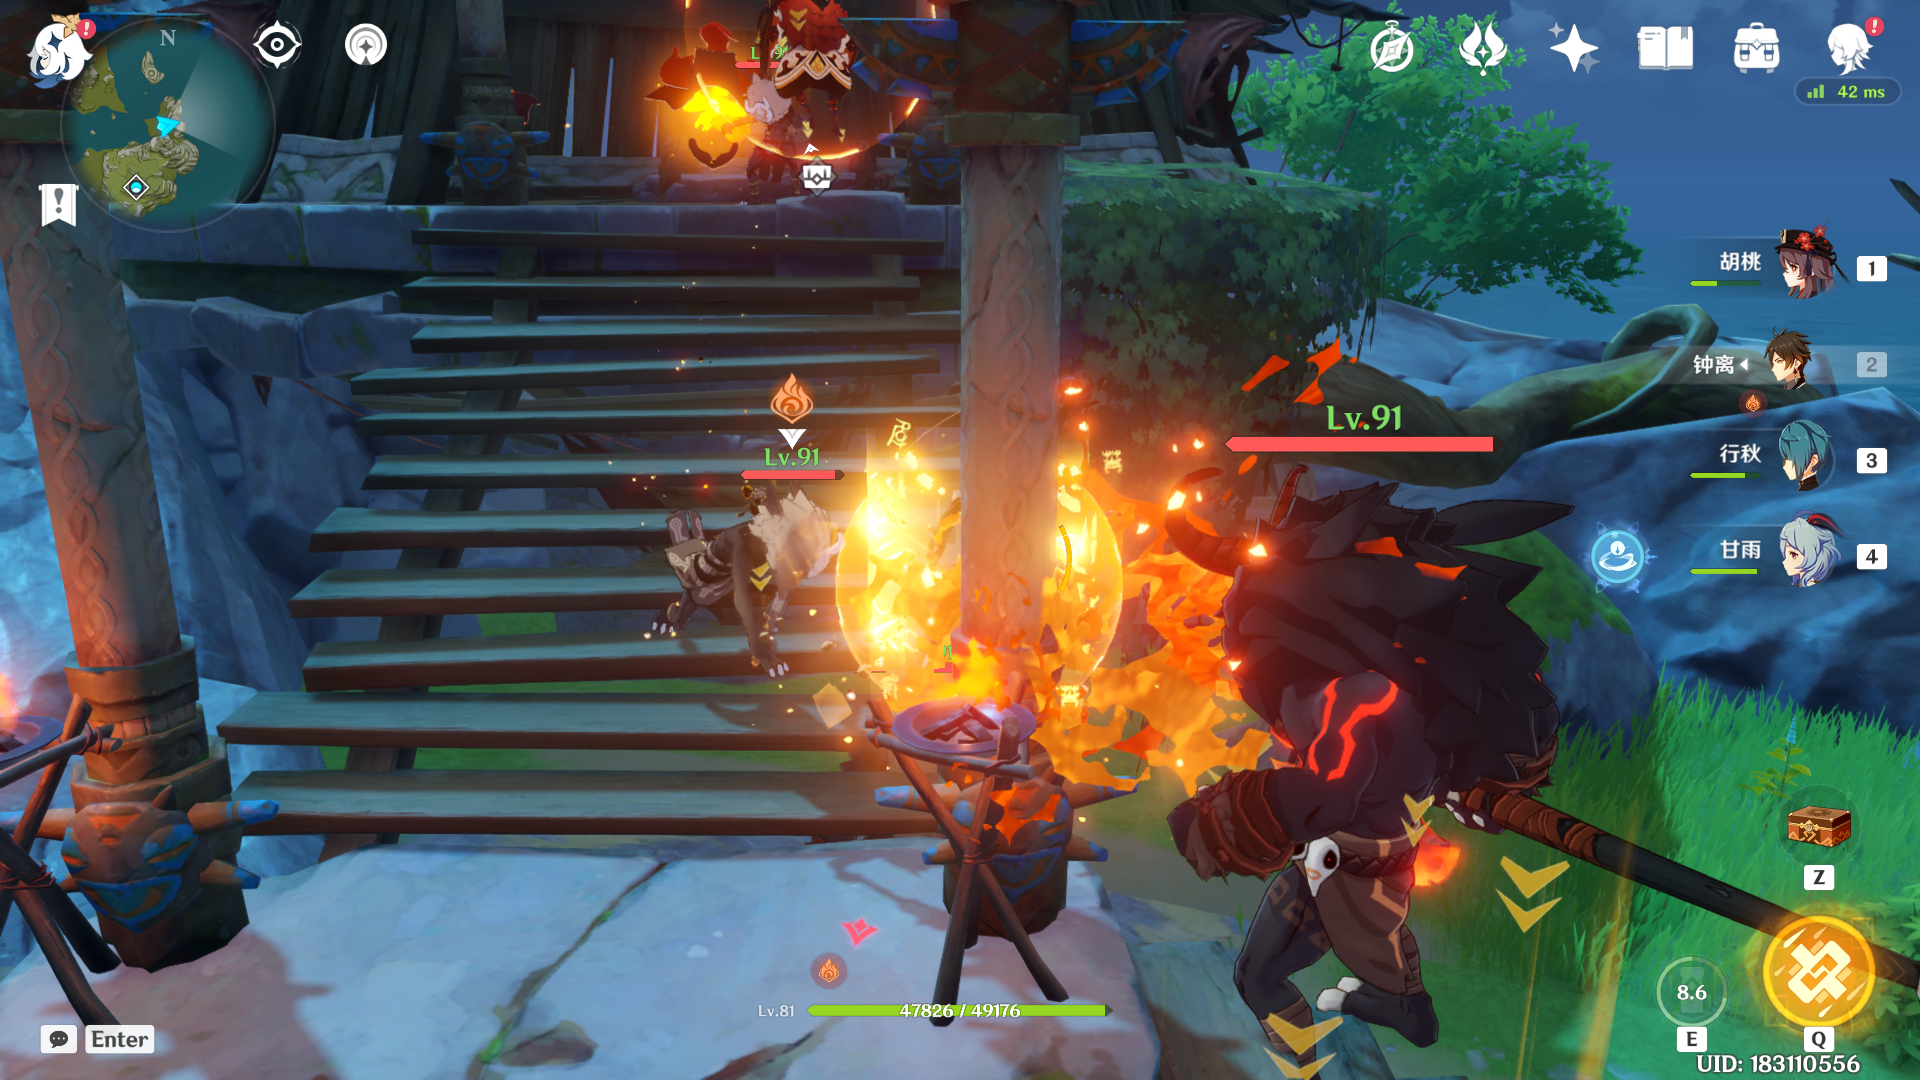bighili: (1125, 392, 1683, 1080)
caster: (761, 1, 866, 127)
hili: (593, 438, 873, 696), (698, 61, 837, 222)
